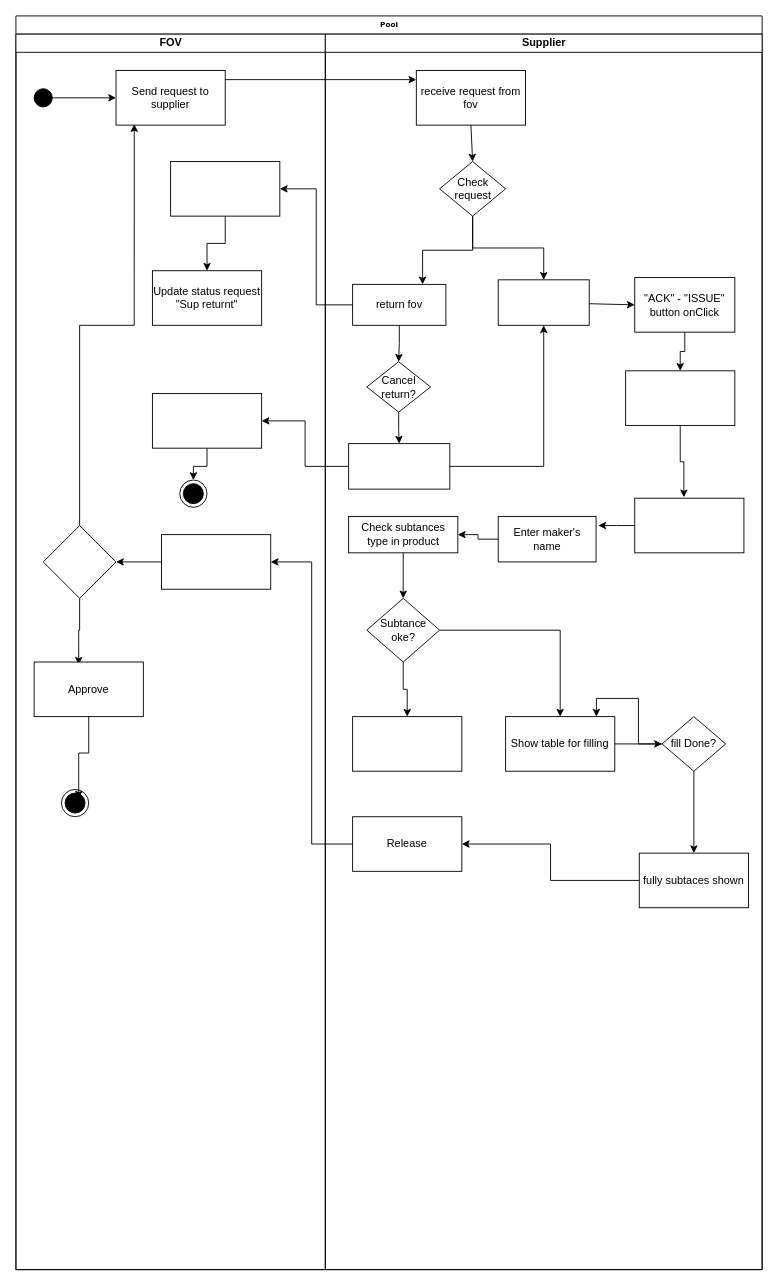
The diagram is 778 pixels wide and 1286 high, and some of its shapes have lost their labels. The shapes that lost their labels are listed below. From the top down, each one's centre as x and y in pixels, then its label:
the point at 225,188: Receive returnt from supplier
the point at 543,302: SelectInfor
the point at 680,397: Declare for selected onClick
the point at 207,420: Receive cancel return
the point at 399,466: Recall return
the point at 689,525: render Infor of item selected
the point at 79,561: is evidents oke?
the point at 216,561: Receive message submitted
the point at 407,743: Show support document
